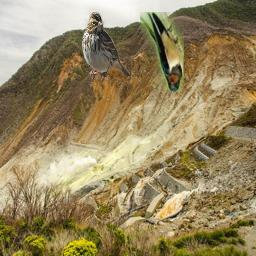Sparrow: (80, 12, 130, 82)
Swallow: (140, 12, 184, 92)
